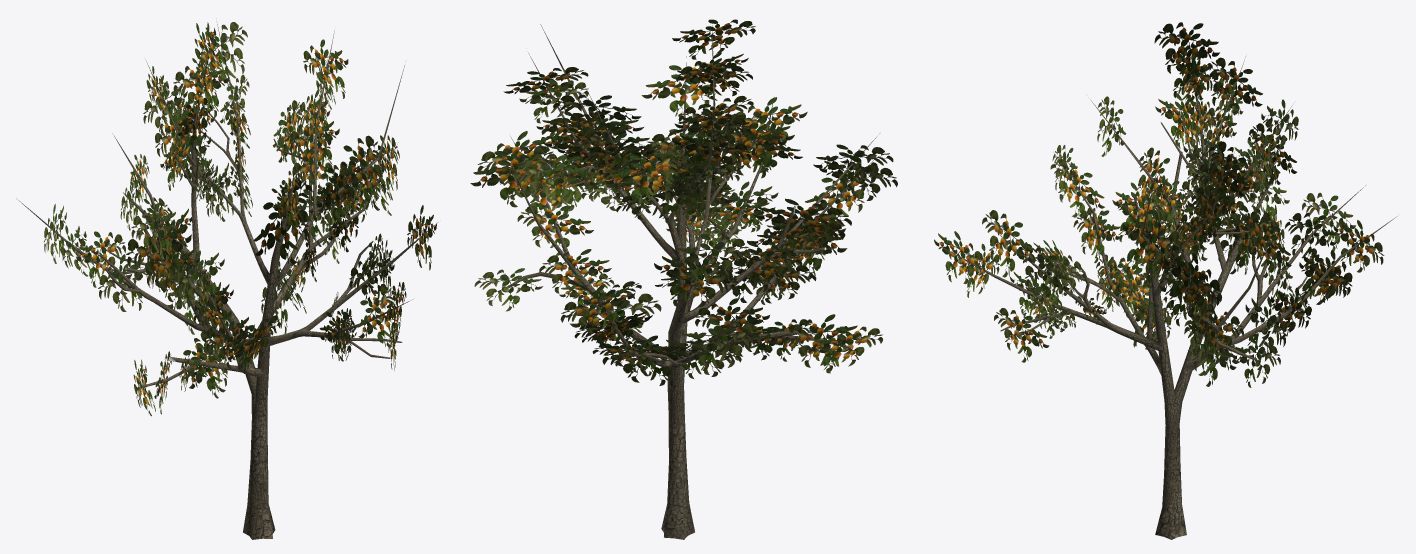
Rendered from ShiZiShu.fbx.
3 renders of one model, left to right at view 1: azimuth 30°, elevation 25°; view 2: azimuth 150°, elevation 25°; view 3: azimuth 270°, elevation 25°, orthographic. The views are drawn at different scales.
Parts seen in each view (by area): view 1: ShiZiShu; view 2: ShiZiShu; view 3: ShiZiShu.
Part boxes in pixels (x1,y1,x2,y2): ShiZiShu: (16, 21, 437, 539); ShiZiShu: (470, 19, 897, 539); ShiZiShu: (934, 22, 1397, 539).
Bounding box in the file's own units: 15.23 × 19.41 × 22.24.
4 materials, 3 textured.
